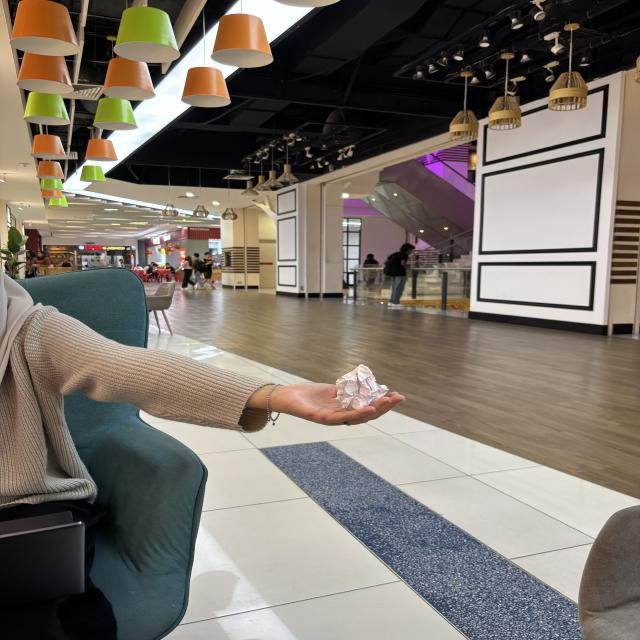crumpled_paper: (330, 358, 391, 414)
